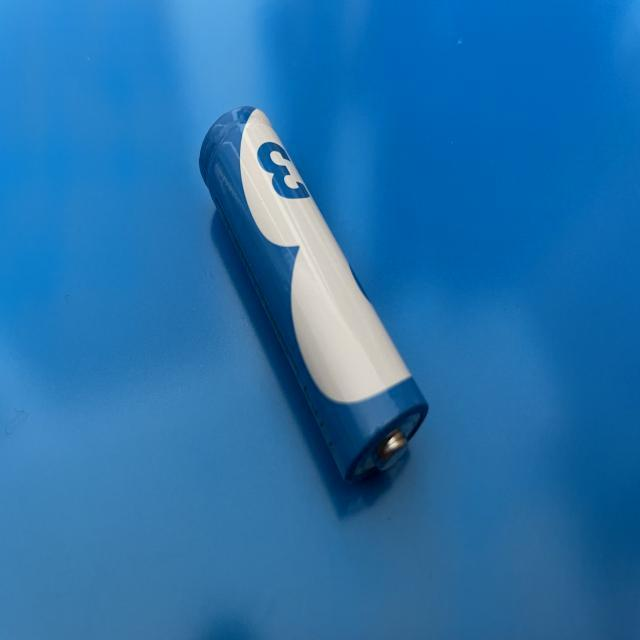AA: (191, 105, 434, 483)
